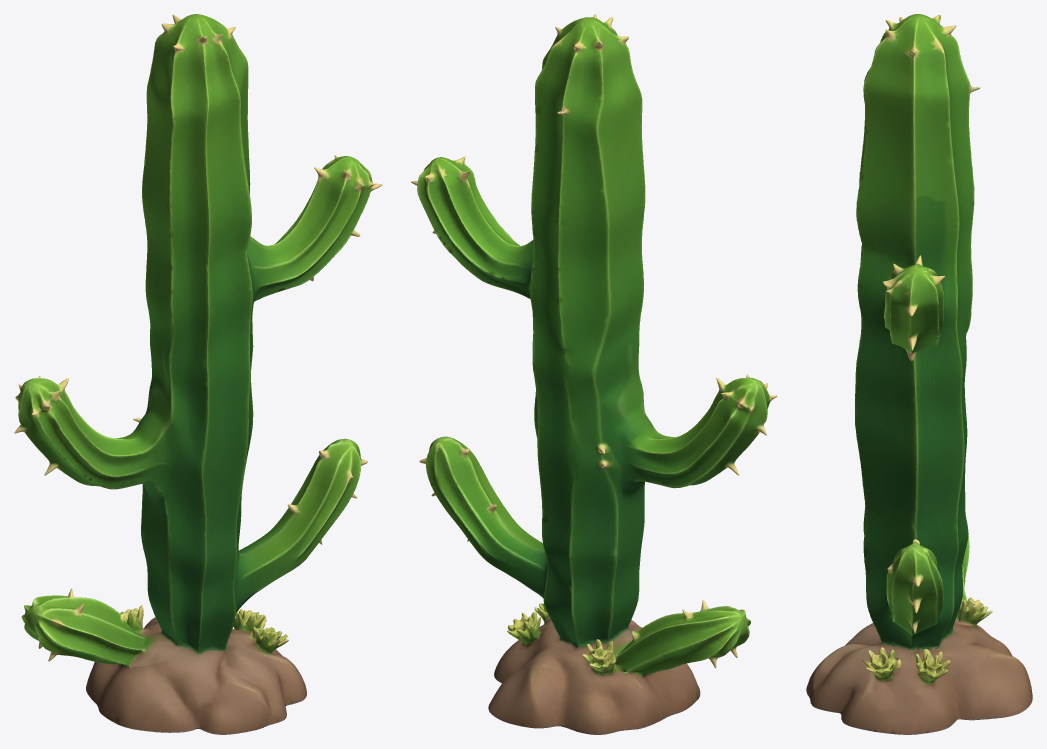
File: tatu_mandacaru.glb
3 views of the same model, side by side, from view 1: azimuth 30°, elevation 25°; view 2: azimuth 150°, elevation 25°; view 3: azimuth 270°, elevation 25° (orthographic).
Size of the model in its own units: 1.07 by 1.9 by 0.578.
1 material, 1 textured.
